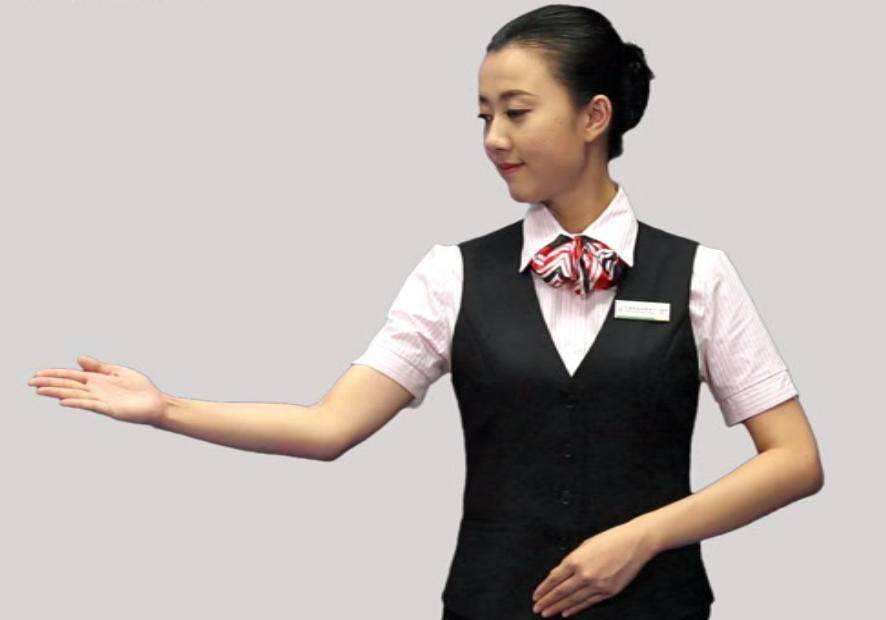no-phone: (25, 349, 165, 429)
